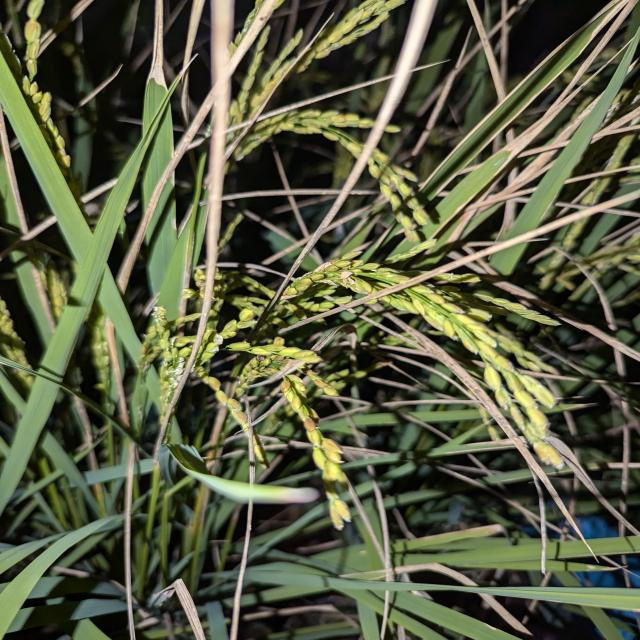9month_ine: (80, 203, 582, 540)
